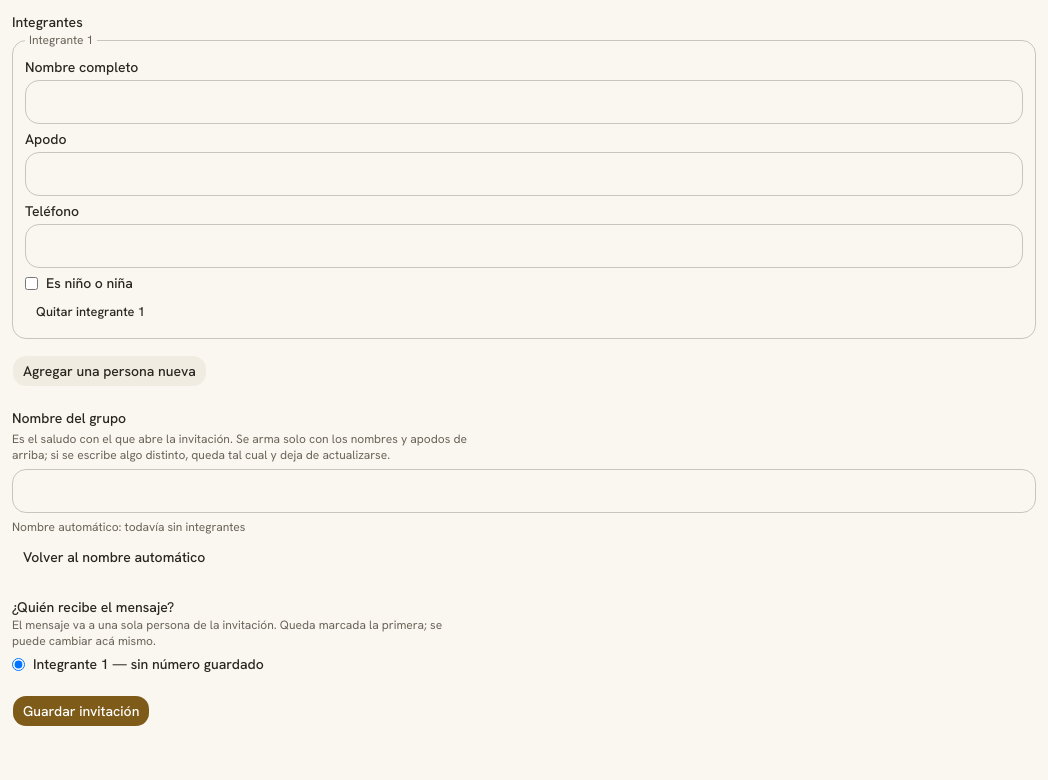
Test: InvitationForm's refusals, checked before the round trip › refuses a blank custom name and points at the way back
In the field labelled "Nombre completo": point(524, 102) [25,80,1023,124], type "Luis Guzmán"
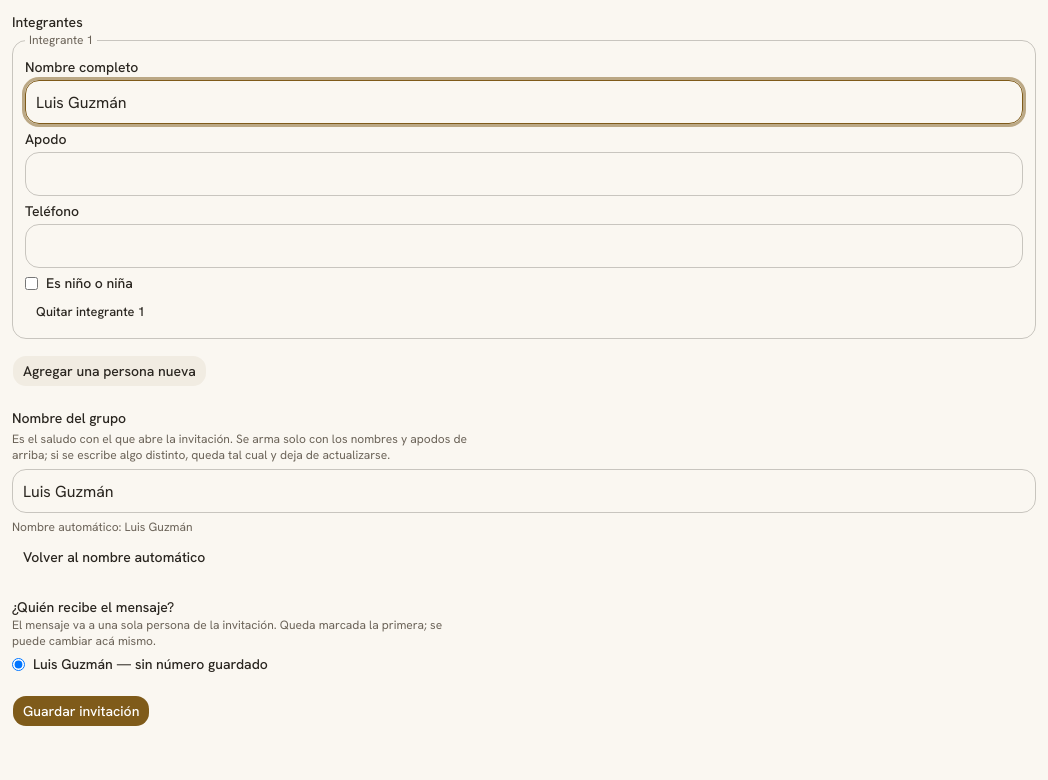
Note: Filled for the same reason: `required` must not be what stops the save.
Clear the field labelled "Nombre del grupo": point(524, 491) [12,469,1036,513]
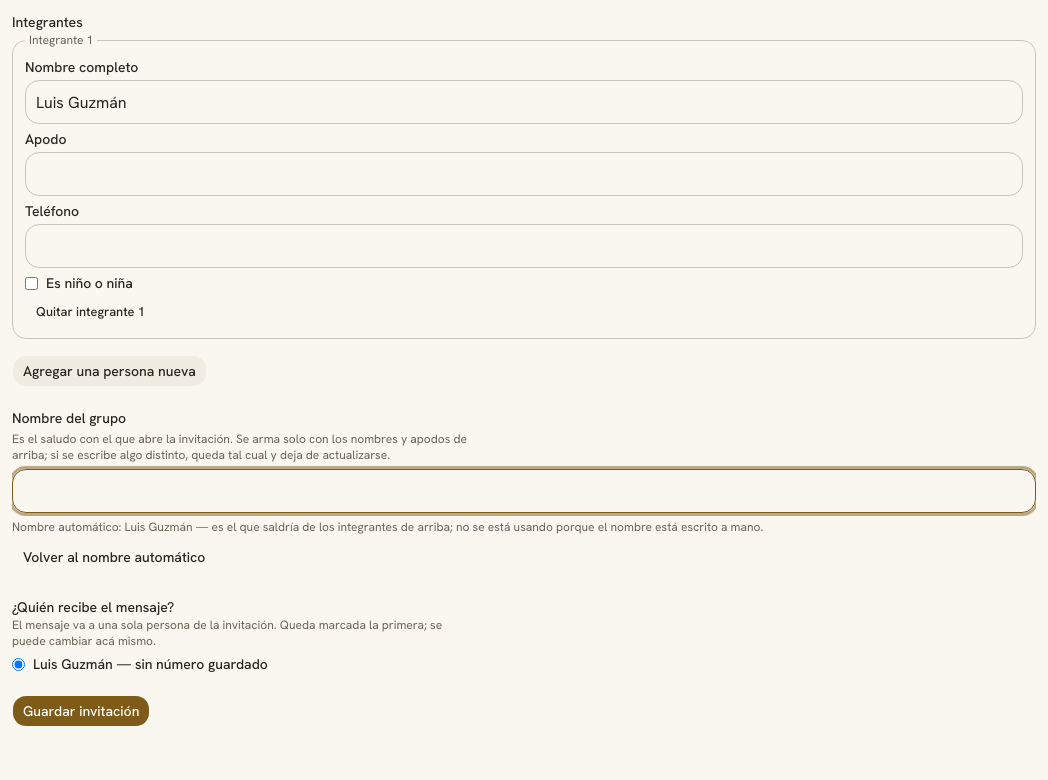
Click the button "Guardar invitación": point(81, 711) [12,695,150,727]
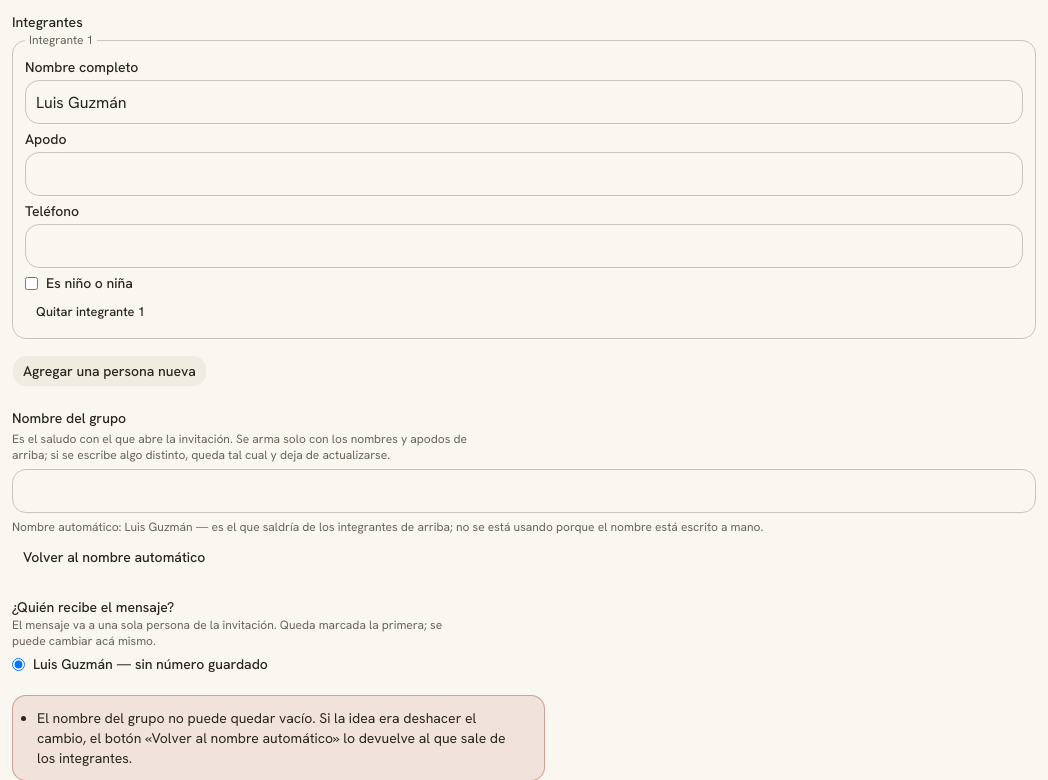
Expected: the message with test id "invitation-refusals" shows "nombre automático", [37,709,506,767]
